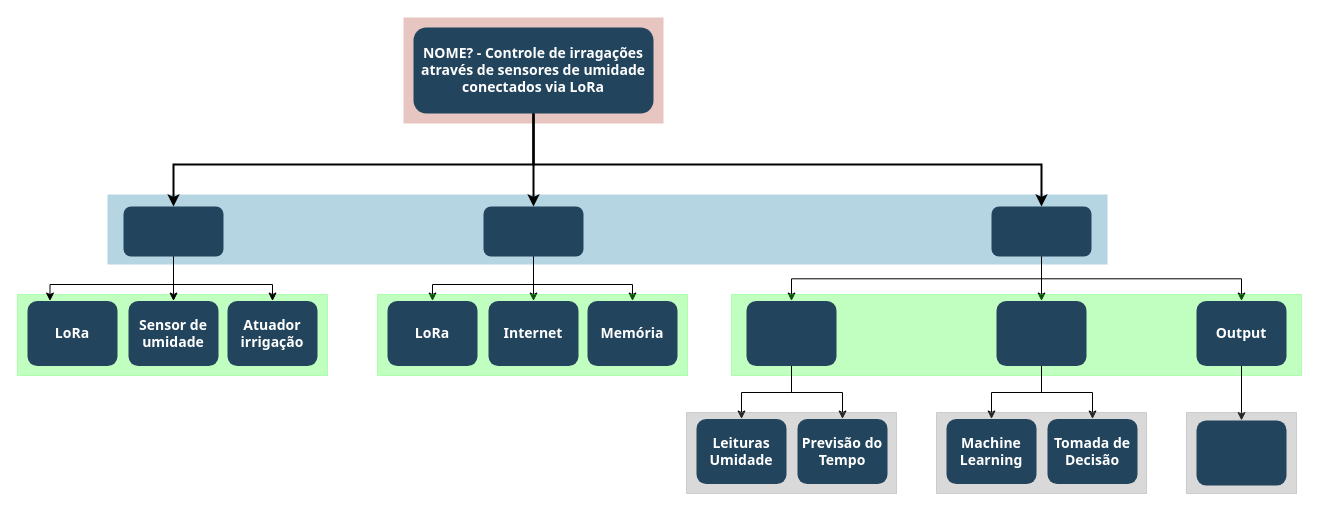
Image size: 1319x511. Some labels were removed from this diagram. Here are the shapes that lost their labels. From the top down, the box of each, then its label:
(123, 206, 223, 256): Device
(483, 206, 583, 256): Gateway
(991, 206, 1091, 256): Cloud
(746, 300, 836, 366): Input
(996, 300, 1086, 366): Core
(1196, 420, 1286, 485): Ativação Irrigação
